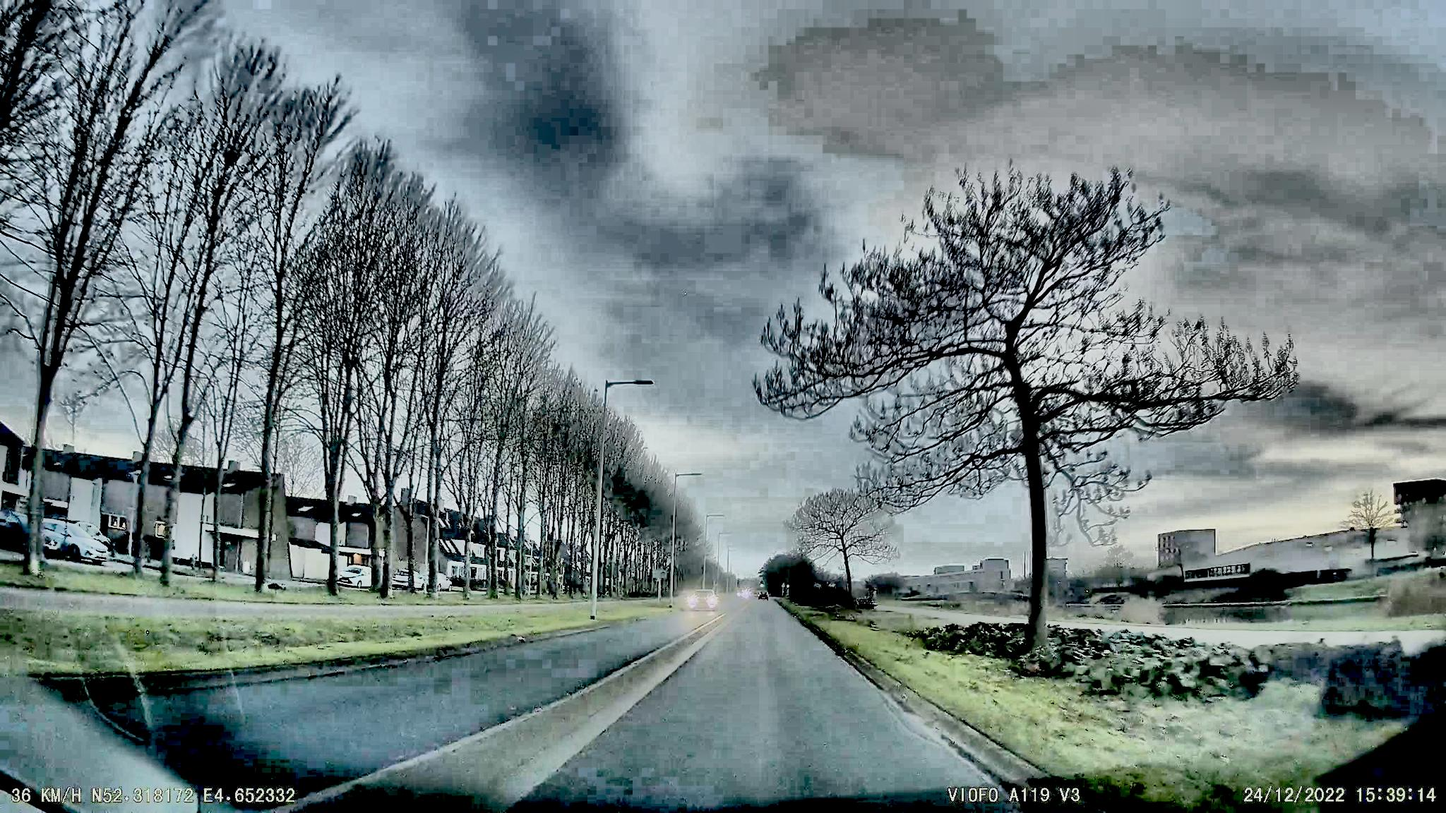Roads: (0, 601, 1105, 813)
